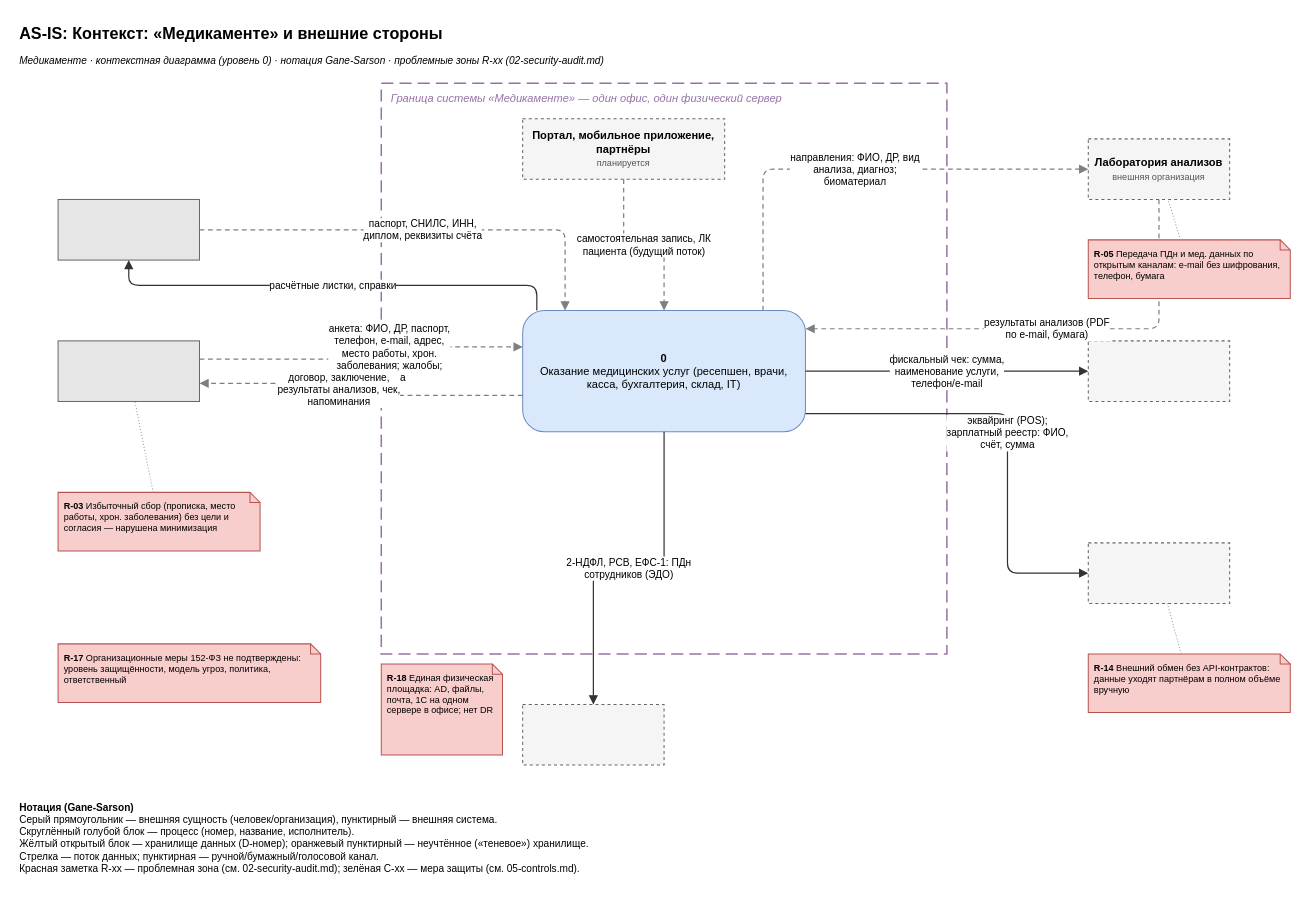
Some shapes in this 1308 by 903 pixel diagram are drawn without their labels. Each missing label, with the centre of its shape:
Банк эквайринг, зарплатный проект: the point at 1158,572
ОФД → ФНС фискальные данные ККМ: the point at 1158,370
Пациент субъект ПДн: the point at 128,370
Сотрудник субъект ПДн (кадровый учёт): the point at 128,229
ФНС, СФР налоговая и кадровая отчётность: the point at 593,734
